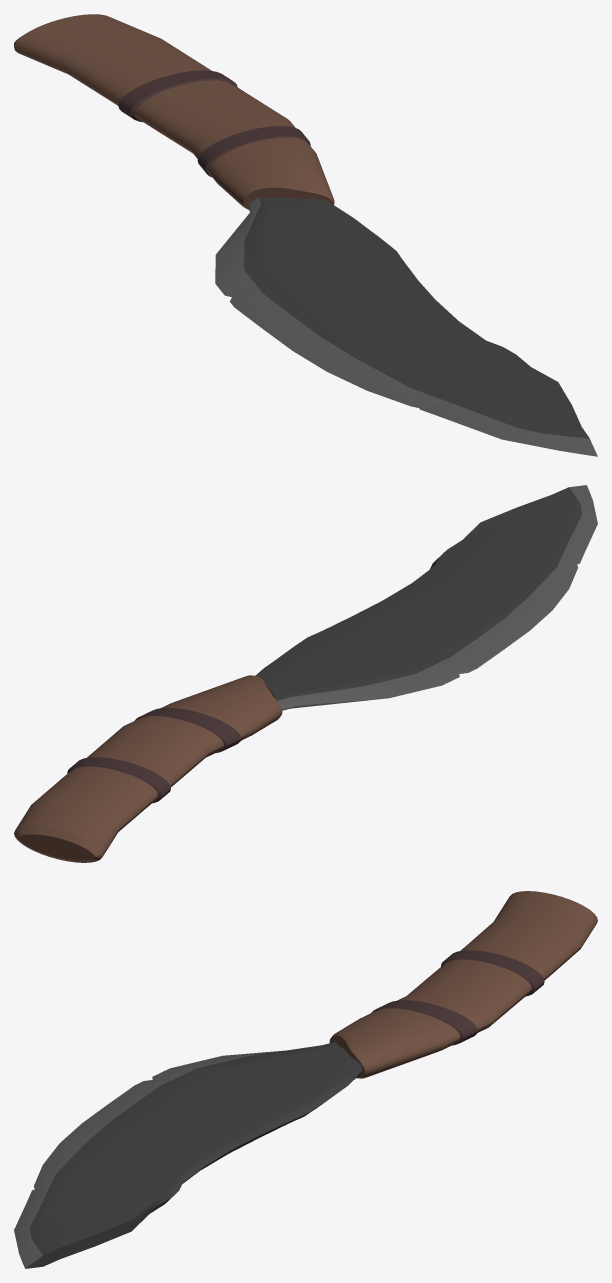
Rendered from faca.fbx.
The picture shows the model from 3 angles, top to bottom: view 1: azimuth 30°, elevation 25°; view 2: azimuth 150°, elevation 25°; view 3: azimuth 330°, elevation 25°; orthographic projection. The views are drawn at different scales.
Parts seen in each view (by area): view 1: Faca; view 2: Faca; view 3: Faca.
Boxes of the visible parts, x1=… form: Faca: x1=14, y1=14, x2=597, y2=456; Faca: x1=14, y1=485, x2=597, y2=862; Faca: x1=14, y1=891, x2=597, y2=1268.
Bounding box in the file's own units: 33.17 × 5.03 × 142.
